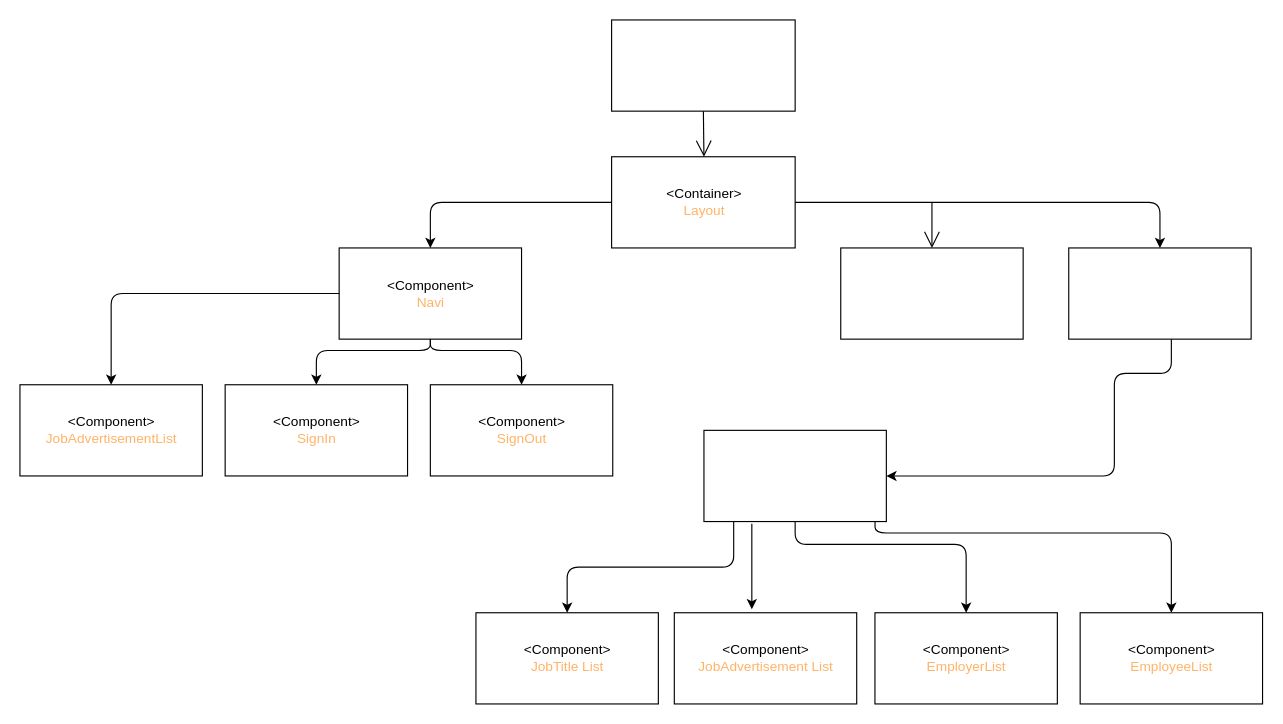
The diagram is 1283 pixels wide and 724 high, and some of its shapes have lost their labels. The centre of each missing label's shape, as x and y in pixels:
<Component> App: the point at 702,65
<Component> Dashboard: the point at 1159,293
<Component> Section: the point at 794,475
<Component> Sidebar: the point at 931,293
